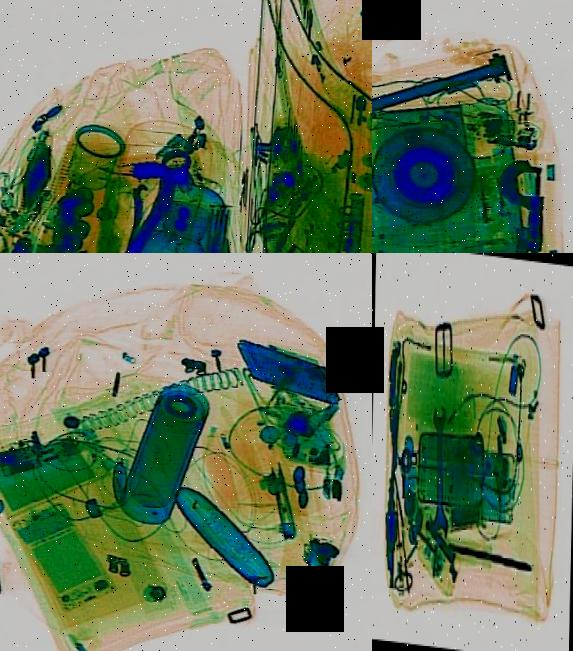Scissors: (262, 457, 301, 540)
Wrench: (40, 133, 200, 253), (428, 401, 450, 536)
